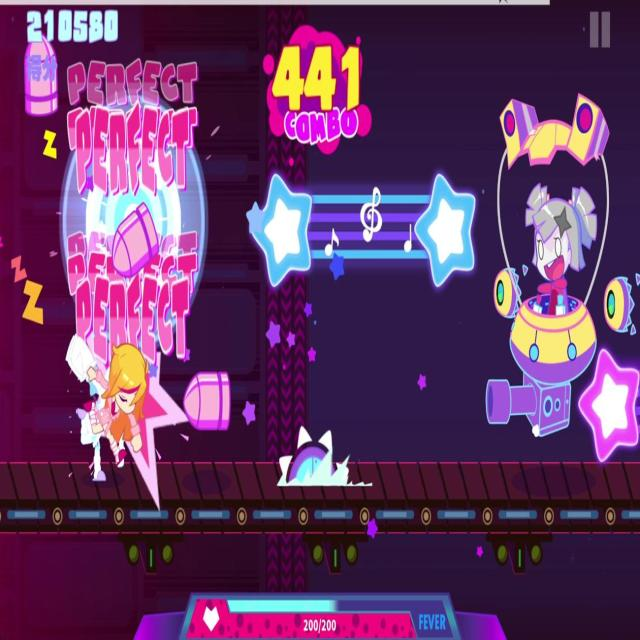hold: (254, 164, 477, 292)
jian: (182, 367, 236, 440), (22, 28, 61, 118), (112, 201, 158, 272)
qiangboss: (490, 98, 636, 433)
